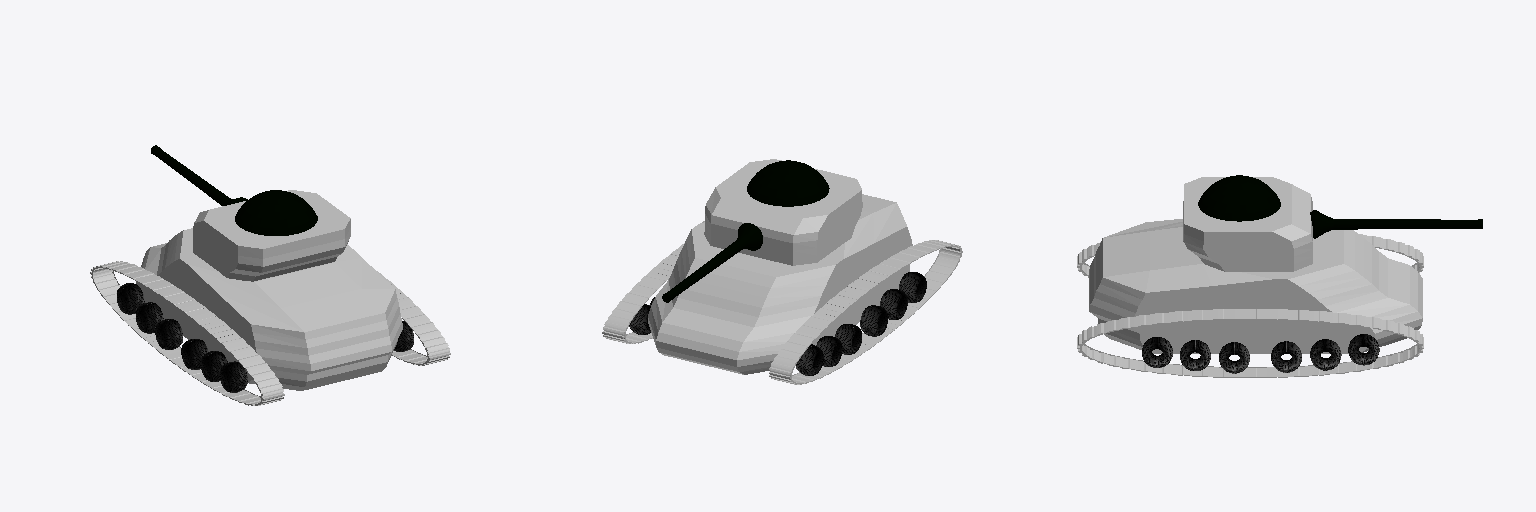
3 views of the same model, side by side, from view 1: azimuth 30°, elevation 25°; view 2: azimuth 150°, elevation 25°; view 3: azimuth 270°, elevation 25° (orthographic).
Visible parts, largest first — view 1: Cubo.006, Gear.003, Rosca.038, Esfera; view 2: Cubo.006, Gear.003, Esfera, Rosca.038; view 3: Cubo.006, Gear.003, Esfera, Rosca.038.
Part boxes in pixels (left/top/right/bottom): Cubo.006: left=136, top=190, right=402, bottom=390; Gear.003: left=90, top=261, right=450, bottom=405; Rosca.038: left=117, top=283, right=413, bottom=392; Esfera: left=151, top=145, right=317, bottom=235; Cubo.006: left=648, top=159, right=912, bottom=374; Gear.003: left=602, top=240, right=962, bottom=384; Esfera: left=662, top=160, right=829, bottom=302; Rosca.038: left=629, top=272, right=926, bottom=375; Cubo.006: left=1089, top=177, right=1422, bottom=353; Gear.003: left=1077, top=234, right=1423, bottom=377; Esfera: left=1198, top=175, right=1482, bottom=238; Rosca.038: left=1142, top=334, right=1379, bottom=373.
Size of the model in its own units: 20.57 by 16.06 by 38.53.
4 materials, 1 textured.